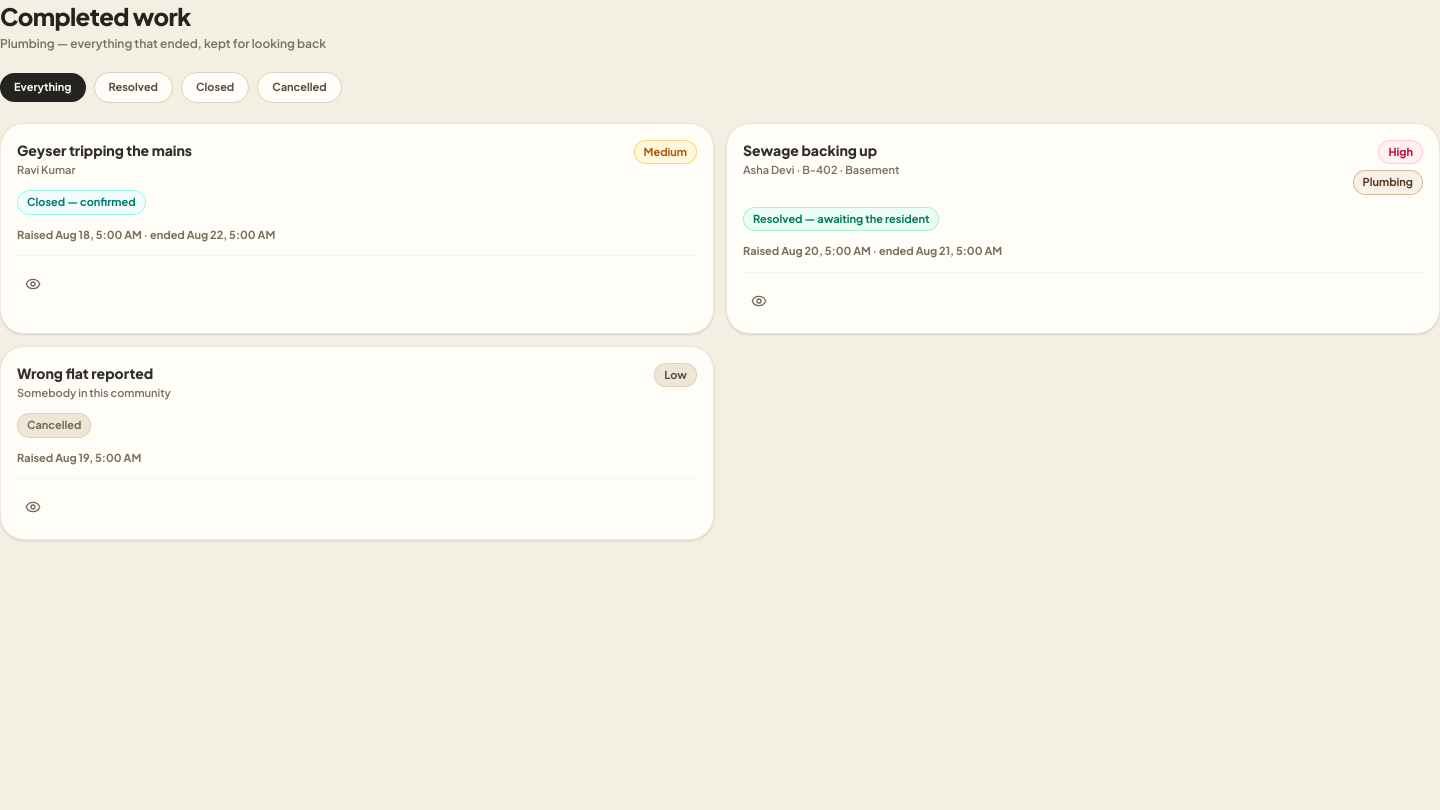
Test case: the completed-work archive › opens the detail popup read-only: full timeline, nothing writable
This screenshot has width=1440, height=810.
Expected: the heading "Sewage backing up" is shown, [743,140,899,160]
Click the button named "View details of Sewage backing up".
click(759, 300)  # box [743,284,775,316]
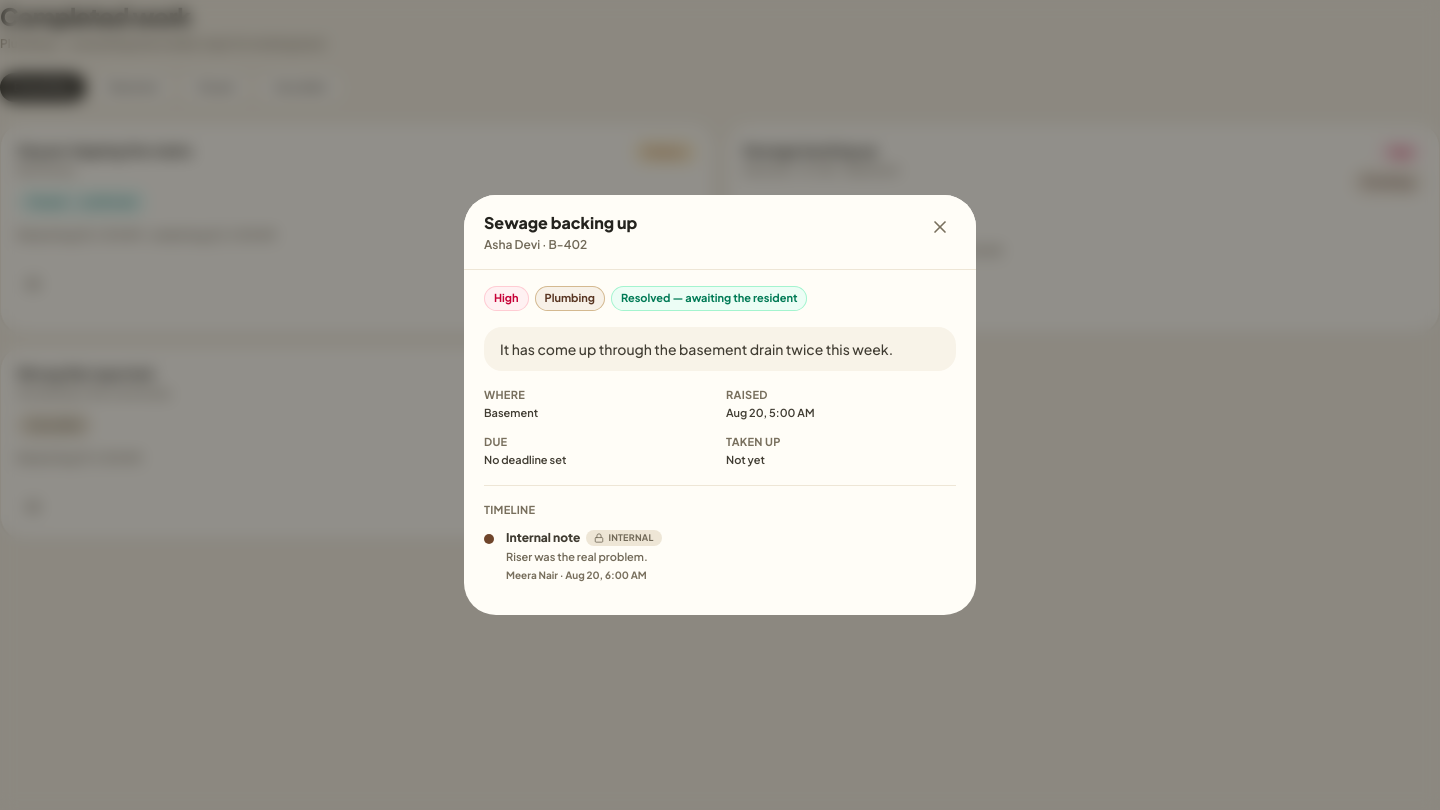
Expected: the text "It has come up through the basement drain twice this week." is shown, [484,327,956,371]
Expected: the text "Internal" is shown, [586,530,662,546]
